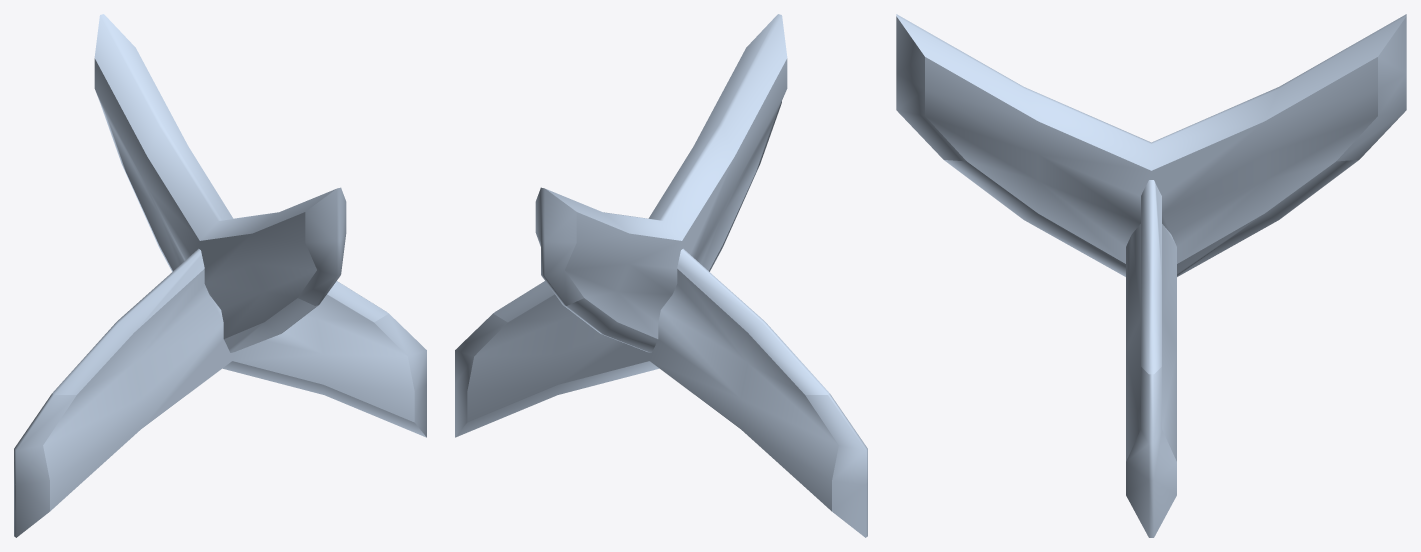
File: trap2.glb
3 views of the same model, side by side, from view 1: azimuth 30°, elevation 25°; view 2: azimuth 150°, elevation 25°; view 3: azimuth 270°, elevation 25° (orthographic). The views are drawn at different scales.
Parts seen in each view (by area): view 1: Box001; view 2: Box001; view 3: Box001.
Boxes of the visible parts, box(x1,y1,x2,y2) form: Box001: box(14, 14, 426, 537); Box001: box(455, 14, 867, 537); Box001: box(896, 14, 1406, 537).
Size of the model in its own units: 2.83 by 2.54 by 2.83.
